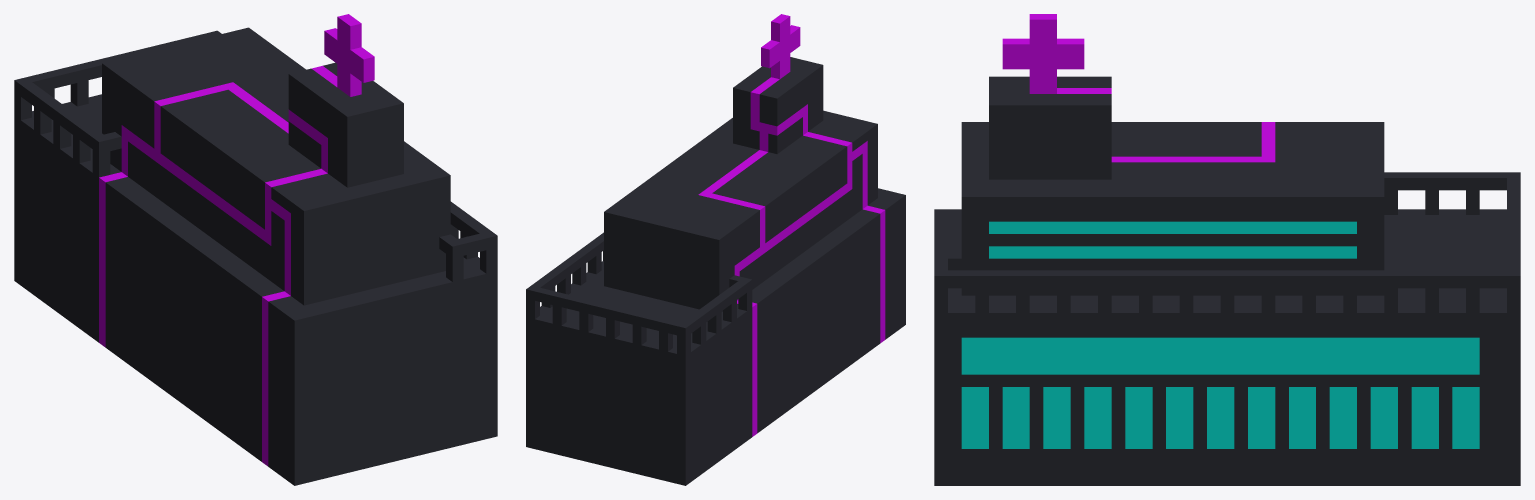
3 renders of one model, left to right at view 1: azimuth 30°, elevation 25°; view 2: azimuth 150°, elevation 25°; view 3: azimuth 270°, elevation 25°, orthographic. The views are drawn at different scales.
Parts seen in each view (by area): view 1: Cube.002; view 2: Cube.002; view 3: Cube.002.
Boxes of the visible parts, left/top/right/bottom form: Cube.002: left=14, top=14, right=497, bottom=485; Cube.002: left=526, top=14, right=905, bottom=485; Cube.002: left=934, top=14, right=1520, bottom=485.
Size of the model in its own units: 1800 by 3400 by 4300.
